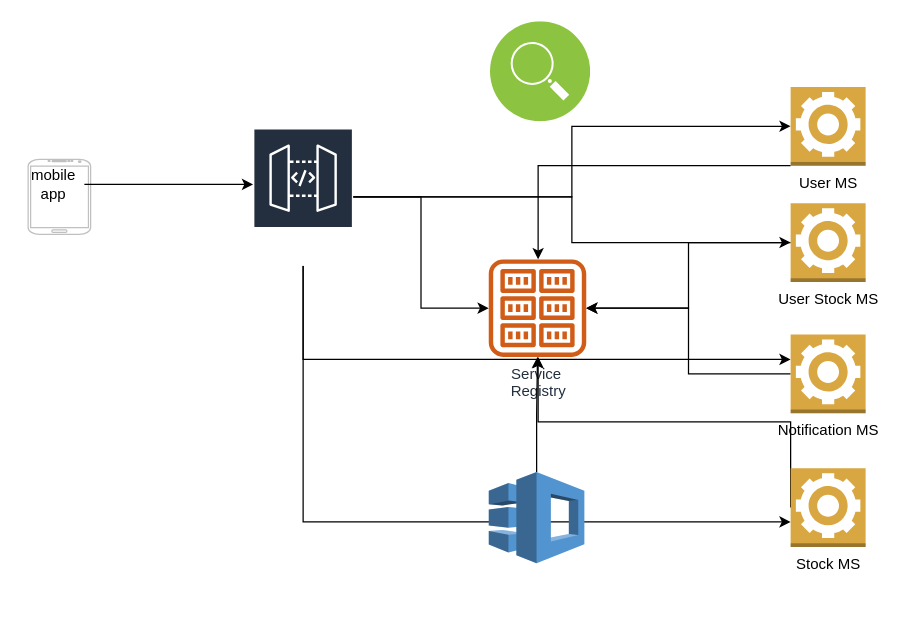
This 900x629 diagram has some shape labels left out. The shapes that lost their labels are listed below. From the top down, each one's centre as x and y in pixels, then its label:
At point 540,71: "Config server".
At point 302,196: "API Gateway".
At point 536,517: "Discovery service".
